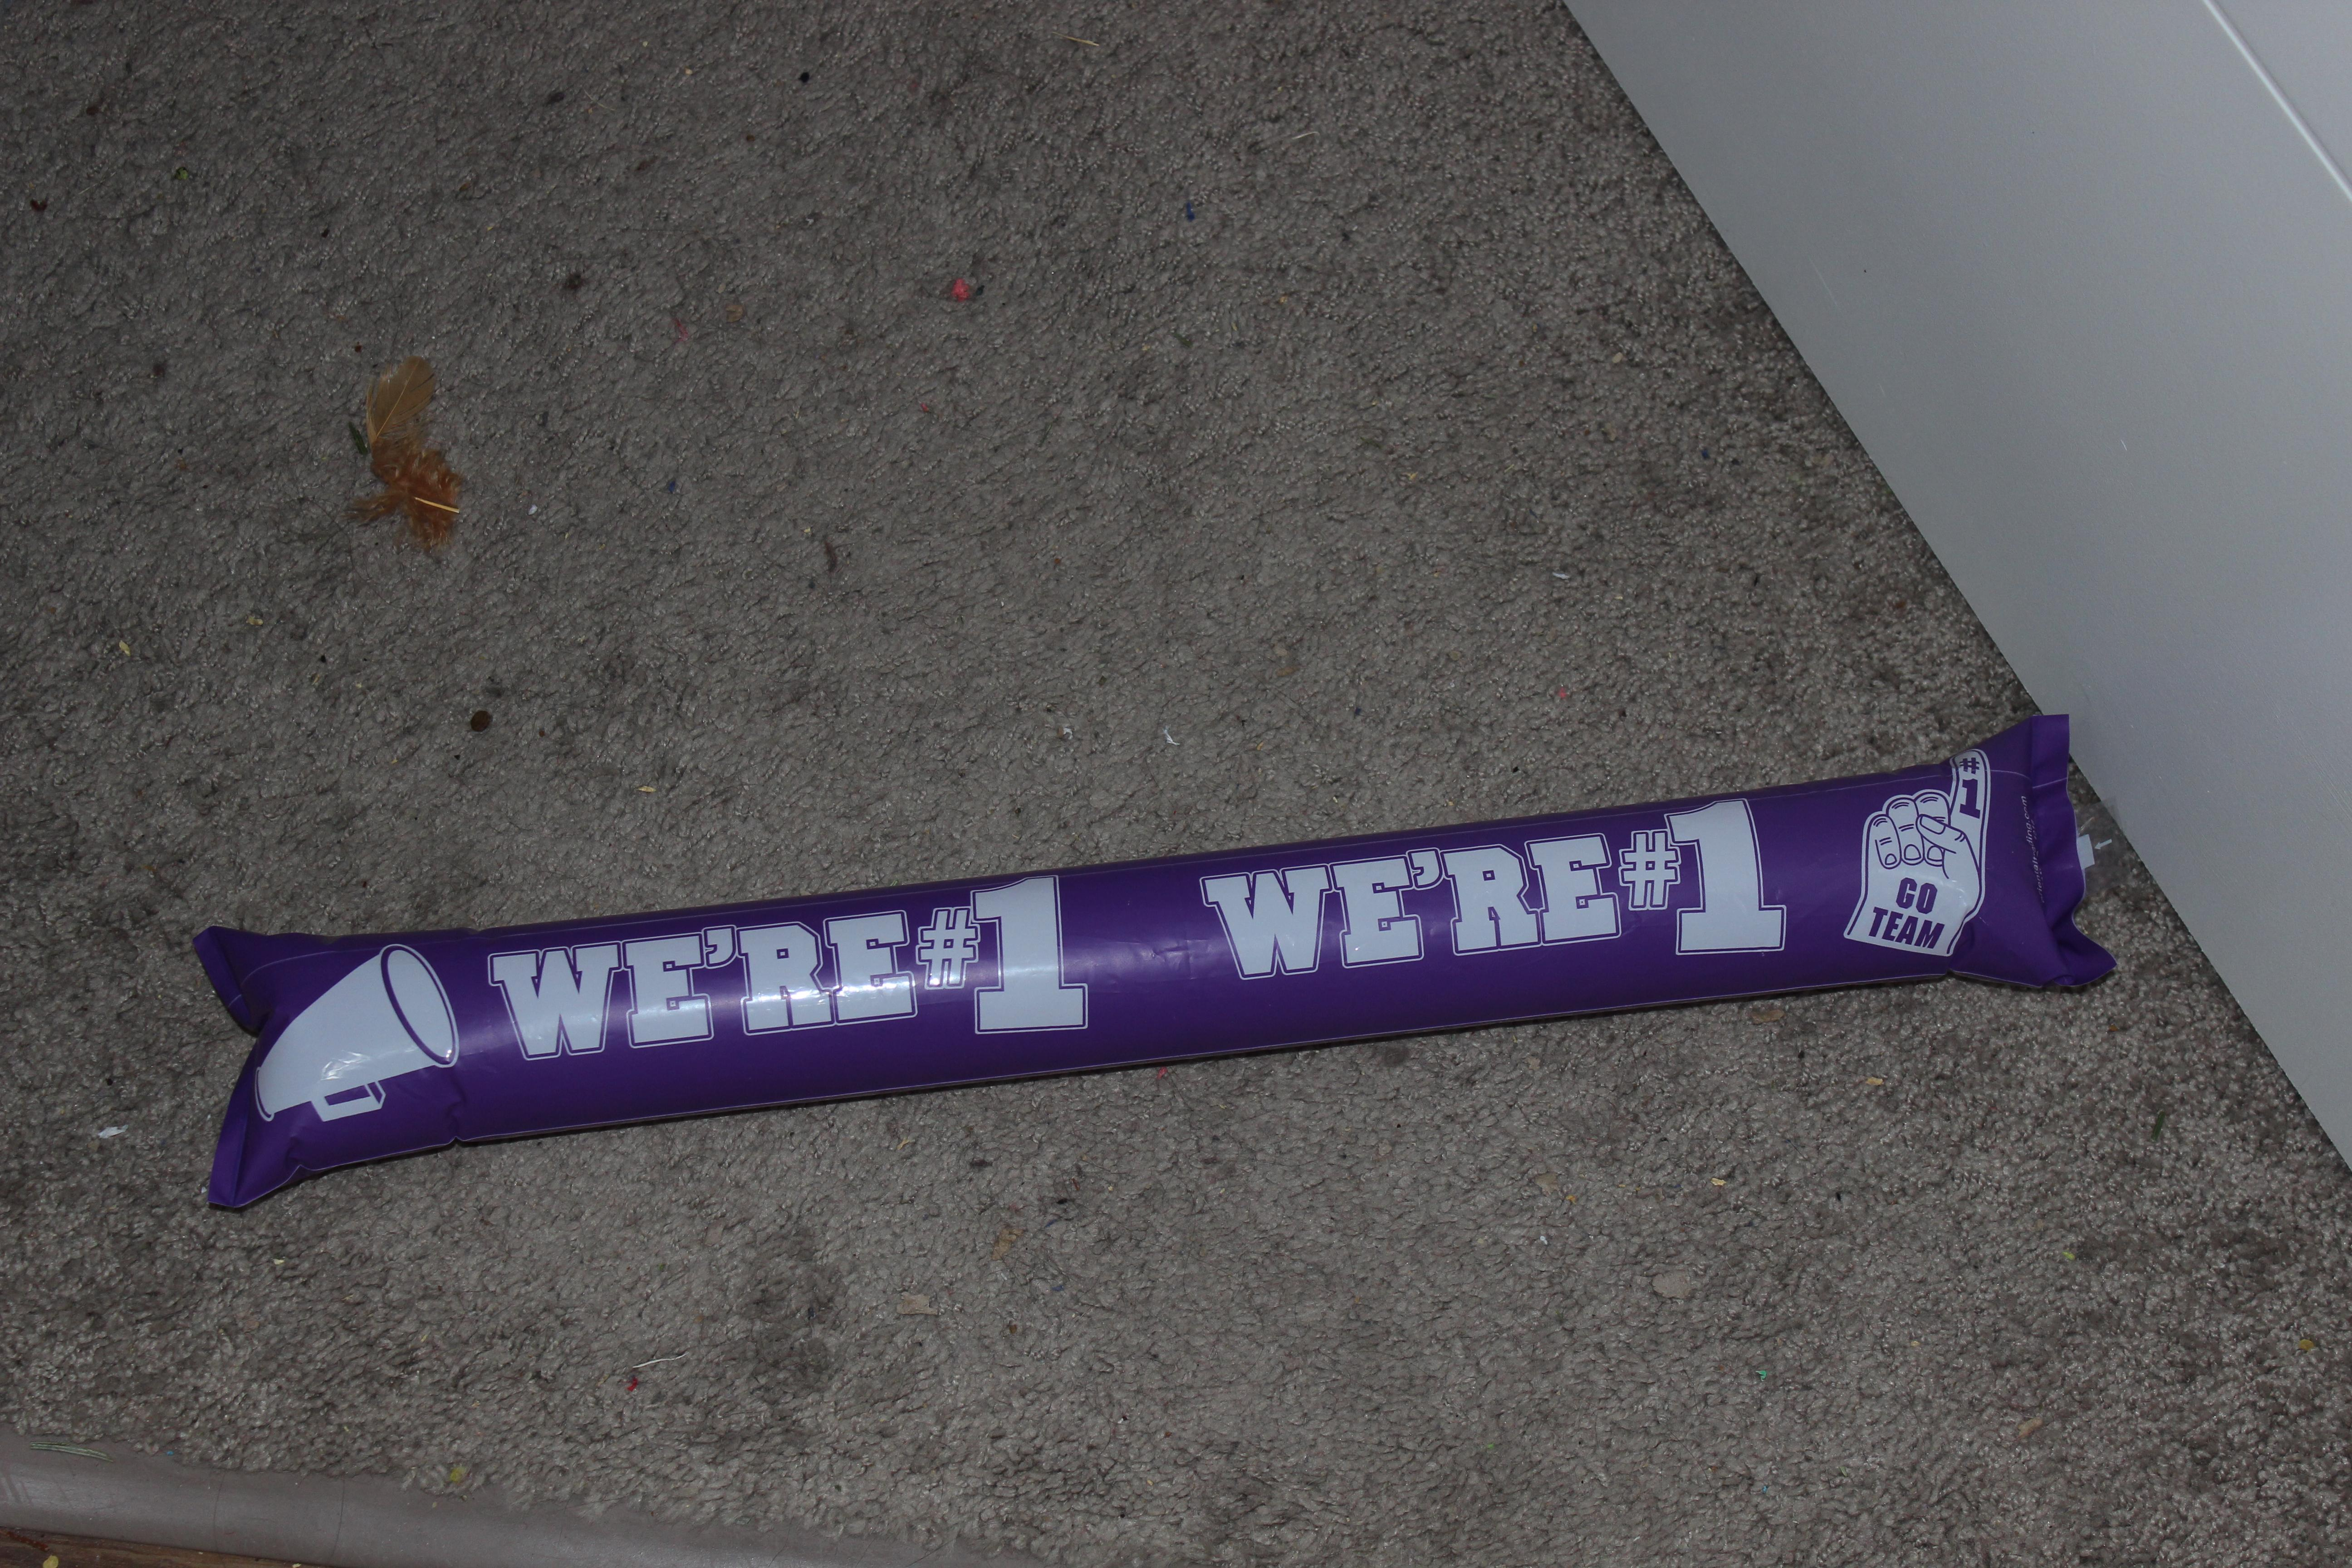noisemaker: (154, 663, 2172, 1264)
